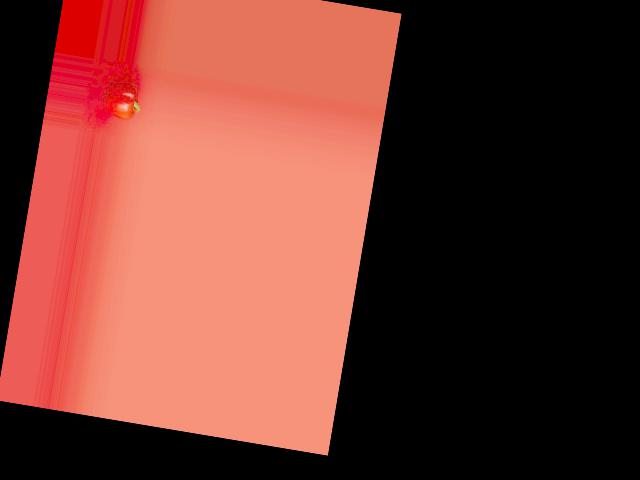bell_pepper: (98, 77, 145, 120)
